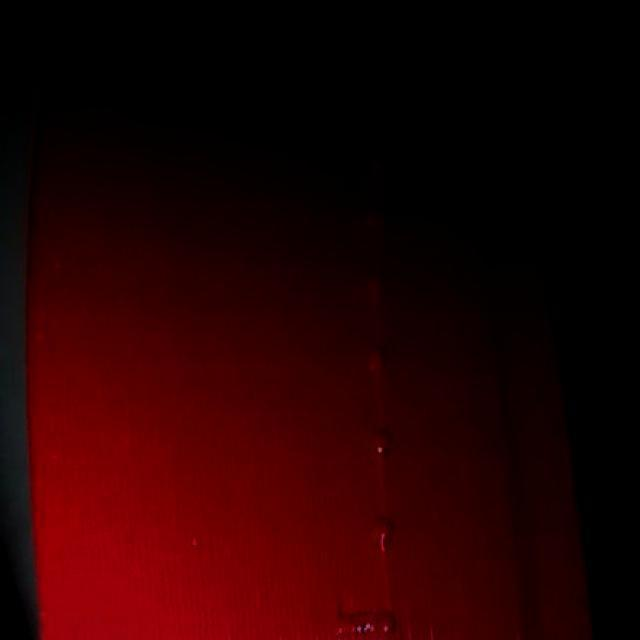blobs: (338, 604, 398, 640), (364, 518, 399, 554), (362, 340, 392, 380), (364, 426, 396, 460), (360, 202, 388, 238), (360, 264, 386, 296), (366, 151, 392, 181), (368, 110, 390, 134)
